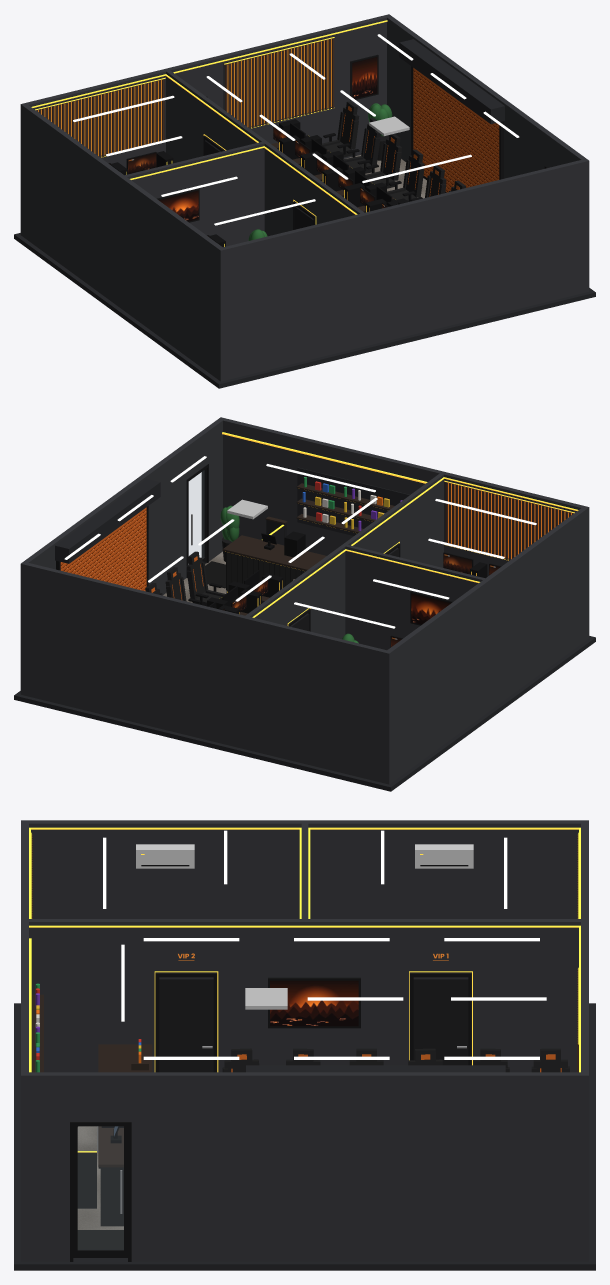
Rendered from kamil-gaming-3d.glb.
3 views of the same model, one above another, from view 1: azimuth 30°, elevation 25°; view 2: azimuth 150°, elevation 25°; view 3: azimuth 270°, elevation 25° (orthographic). The views are drawn at different scales.
Visible parts, largest first — view 1: Wall_Front_Shelves, Wall_VIP_Outer, Wall_Back, Wall_Right_Entrance_Gate, Partition_Hall_VIP_Doors, Hall_Island_12_Seats, Partition_VIP1_VIP2, Floor_and_Base, Ceiling_Hall, VIP_Seats_2x5, Ceiling_VIP2, Ceiling_VIP1; view 2: Wall_Back, Wall_VIP_Outer, Wall_Front_Shelves, Wall_Right_Entrance_Gate, Partition_Hall_VIP_Doors, Partition_VIP1_VIP2, Floor_and_Base, Reception_Counter, Hall_Island_12_Seats, Ceiling_Hall, VIP_Seats_2x5, Plant_1 (+2 smaller); view 3: Wall_Right_Entrance_Gate, Partition_Hall_VIP_Doors, Wall_VIP_Outer, Floor_and_Base, Reception_Counter, Wall_Front_Shelves, Wall_Back, Ceiling_Hall, Hall_Island_12_Seats, Partition_VIP1_VIP2.
Boxes of the visible parts, bbox=[...] form: Wall_Front_Shelves: bbox=[218, 158, 589, 381]; Wall_VIP_Outer: bbox=[20, 103, 225, 381]; Wall_Back: bbox=[20, 14, 391, 236]; Wall_Right_Entrance_Gate: bbox=[384, 14, 589, 291]; Partition_Hall_VIP_Doors: bbox=[165, 70, 364, 236]; Hall_Island_12_Seats: bbox=[271, 101, 465, 212]; Partition_VIP1_VIP2: bbox=[125, 142, 264, 246]; Floor_and_Base: bbox=[14, 155, 595, 388]; Ceiling_Hall: bbox=[206, 34, 519, 183]; VIP_Seats_2x5: bbox=[108, 151, 225, 247]; Ceiling_VIP2: bbox=[161, 176, 315, 225]; Ceiling_VIP1: bbox=[73, 95, 182, 156]; Wall_Back: bbox=[20, 562, 391, 784]; Wall_VIP_Outer: bbox=[384, 507, 589, 783]; Wall_Front_Shelves: bbox=[218, 417, 587, 576]; Wall_Right_Entrance_Gate: bbox=[20, 417, 224, 686]; Partition_Hall_VIP_Doors: bbox=[245, 473, 444, 639]; Partition_VIP1_VIP2: bbox=[345, 545, 484, 650]; Floor_and_Base: bbox=[14, 551, 595, 791]; Reception_Counter: bbox=[222, 516, 326, 592]; Hall_Island_12_Seats: bbox=[145, 551, 283, 615]; Ceiling_Hall: bbox=[64, 456, 377, 601]; VIP_Seats_2x5: bbox=[390, 552, 501, 647]; Plant_1: bbox=[220, 505, 239, 561]; Wall_Right_Entrance_Gate: bbox=[21, 1065, 588, 1261]; Partition_Hall_VIP_Doors: bbox=[29, 919, 580, 1072]; Wall_VIP_Outer: bbox=[21, 820, 588, 918]; Floor_and_Base: bbox=[14, 1003, 595, 1270]; Reception_Counter: bbox=[77, 1039, 152, 1226]; Wall_Front_Shelves: bbox=[21, 820, 43, 1261]; Wall_Back: bbox=[577, 820, 588, 1261]; Ceiling_Hall: bbox=[121, 938, 546, 1059]; Hall_Island_12_Seats: bbox=[222, 1048, 569, 1072]; Partition_VIP1_VIP2: bbox=[299, 823, 310, 918].
Bounding box in the file's own units: 9.04 × 3.1 × 8.52.
Materials: 48 (17 with a texture image).
